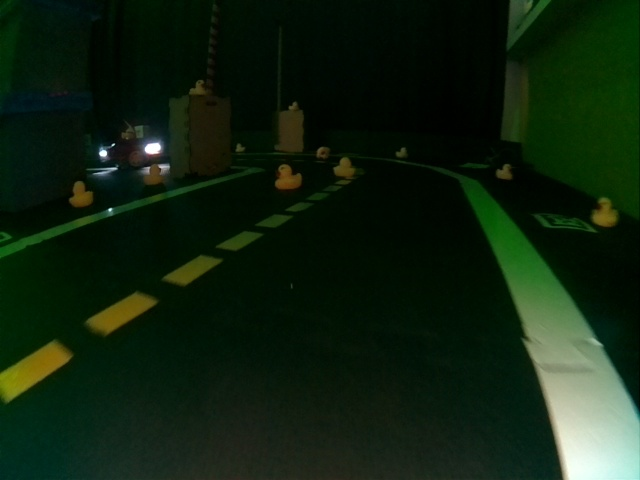Duckie: (592, 198, 618, 227), (275, 165, 303, 190), (70, 181, 91, 208), (334, 157, 355, 177), (144, 167, 161, 183), (495, 163, 512, 179), (189, 80, 206, 95), (316, 146, 329, 158), (395, 147, 407, 158), (290, 102, 298, 111)
Duckiebot: (98, 125, 161, 166)
QR code: (536, 211, 595, 231)
